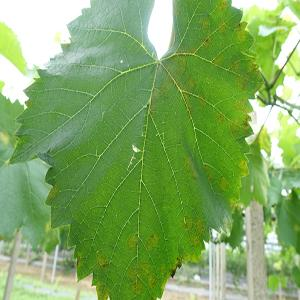Folha: (8, 0, 264, 299)
Fungo: (128, 259, 158, 295), (169, 47, 191, 95), (234, 91, 252, 136), (231, 53, 252, 90), (184, 208, 202, 247), (234, 14, 248, 41), (214, 46, 228, 72), (144, 231, 160, 252), (197, 32, 214, 50), (215, 105, 229, 125), (126, 232, 138, 250), (218, 19, 228, 34), (217, 0, 227, 14), (199, 16, 210, 28), (200, 88, 208, 103)
